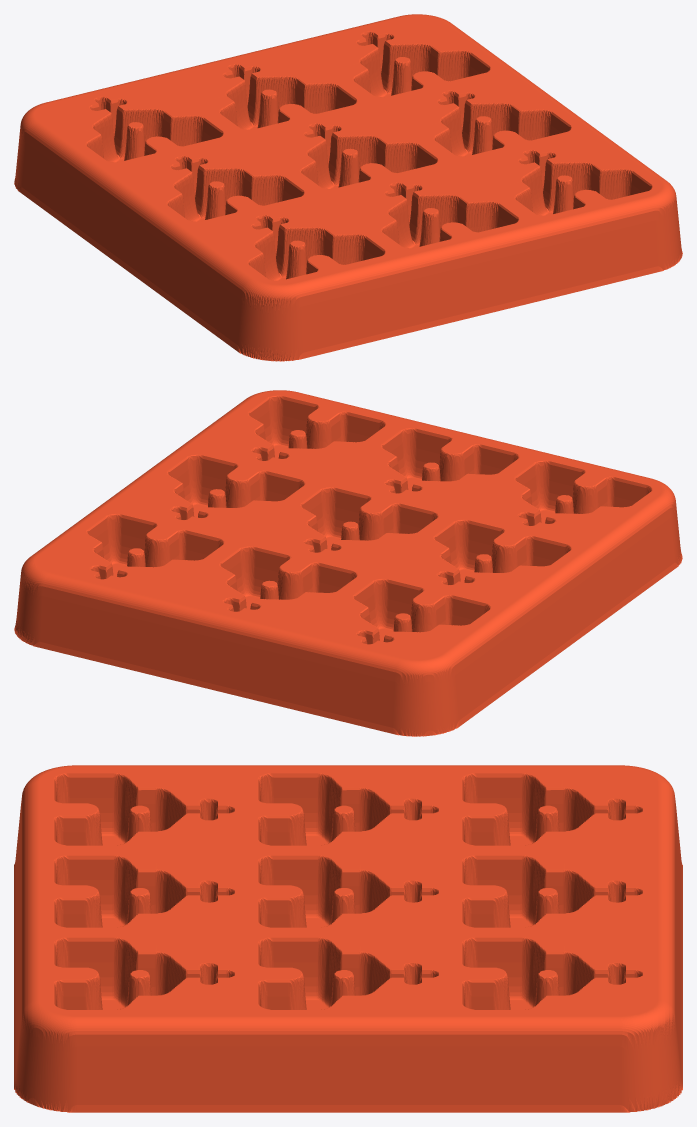
The model's file is mold.glb.
3 renders of one model, top to bottom at view 1: azimuth 30°, elevation 25°; view 2: azimuth 150°, elevation 25°; view 3: azimuth 270°, elevation 25°, orthographic. The views are drawn at different scales.
Parts seen in each view (by area): view 1: geometry_0; view 2: geometry_0; view 3: geometry_0.
Part boxes in pixels (box(x1,y1,x2,y2)): geometry_0: box(14, 14, 682, 361); geometry_0: box(14, 390, 682, 736); geometry_0: box(14, 765, 682, 1112).
Bounding box in the file's own units: 0.0922 × 0.0136 × 0.0964.
